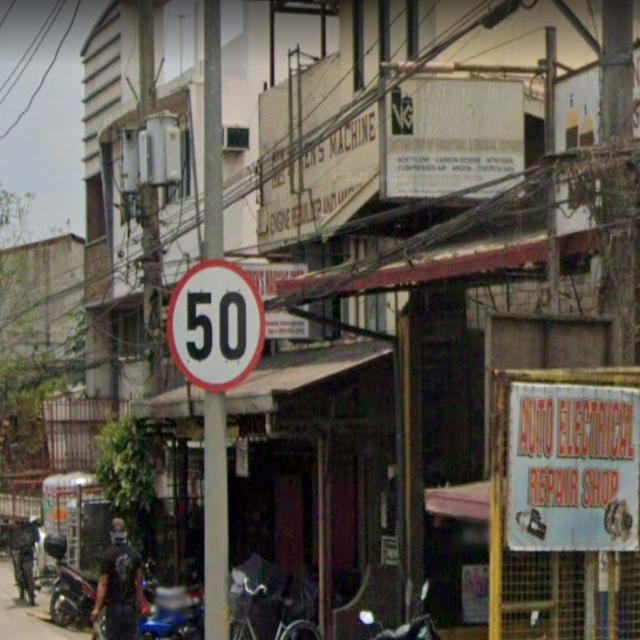50 kph: (167, 260, 265, 391)
